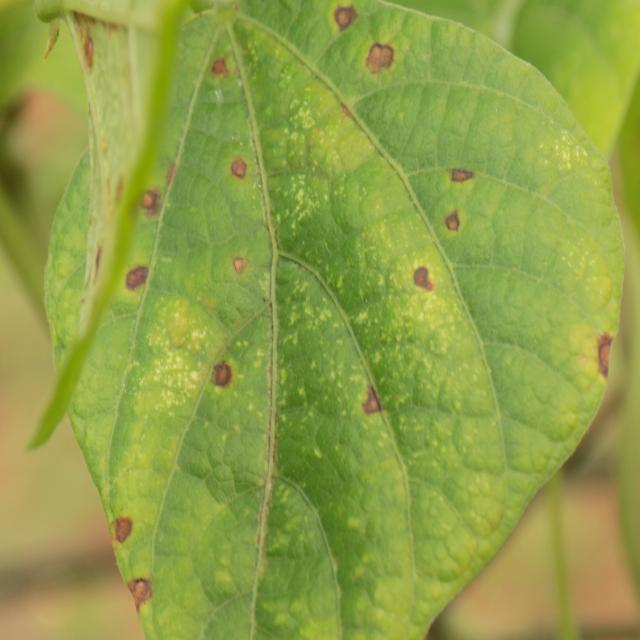Dolicos bean_cercospora leaf spot: (50, 0, 629, 640)
